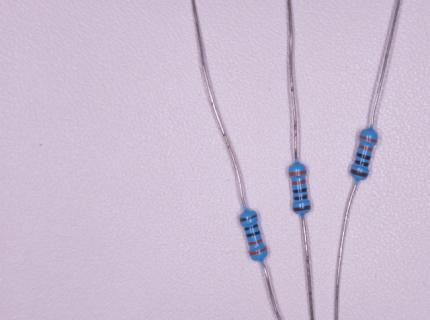Black band: (356, 152, 372, 161), (244, 223, 259, 232), (354, 159, 369, 168), (246, 230, 261, 238), (293, 195, 308, 201), (293, 188, 307, 194)
Brown band: (350, 168, 369, 178), (239, 214, 258, 223), (293, 205, 311, 212)
Orange band: (249, 247, 267, 256), (360, 135, 377, 144), (289, 169, 307, 176), (248, 238, 263, 246), (358, 144, 373, 152), (292, 179, 306, 185)
